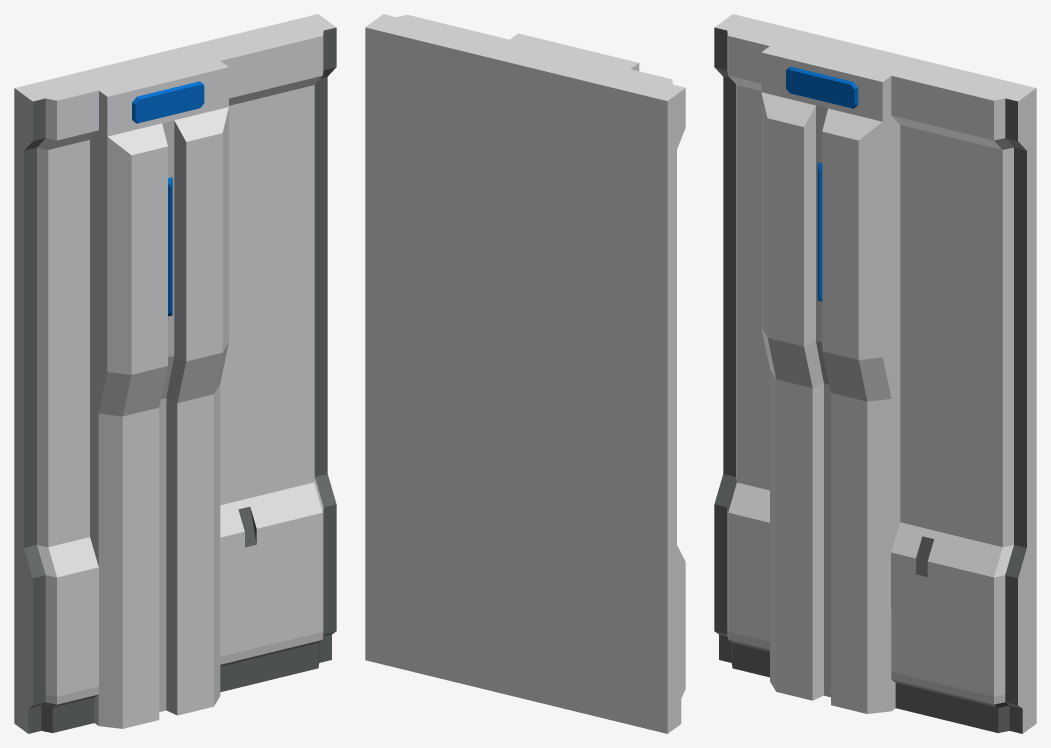
File: Wall_type_A_021.fbx
The picture shows the model from 3 angles, left to right: view 1: azimuth 30°, elevation 25°; view 2: azimuth 150°, elevation 25°; view 3: azimuth 330°, elevation 25°; orthographic projection.
Visible parts, largest first — view 1: Wall_type_A_021; view 2: Wall_type_A_021; view 3: Wall_type_A_021.
Part boxes in pixels (box(x1,y1,x2,y2)): Wall_type_A_021: box(14, 14, 336, 733); Wall_type_A_021: box(365, 14, 685, 733); Wall_type_A_021: box(714, 14, 1036, 733).
Size of the model in its own units: 200 by 46.98 by 400.
